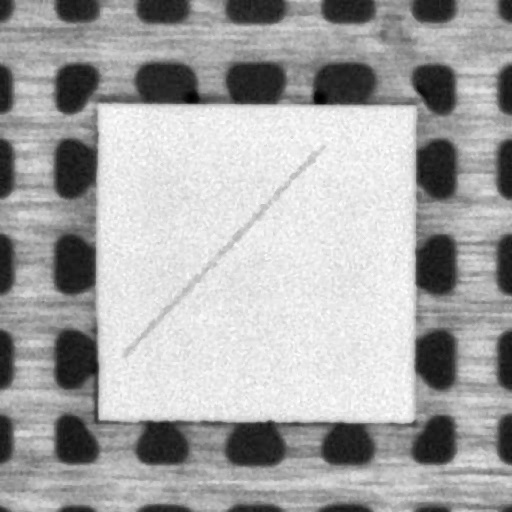DIE_CRACK: (124, 145, 322, 353)
